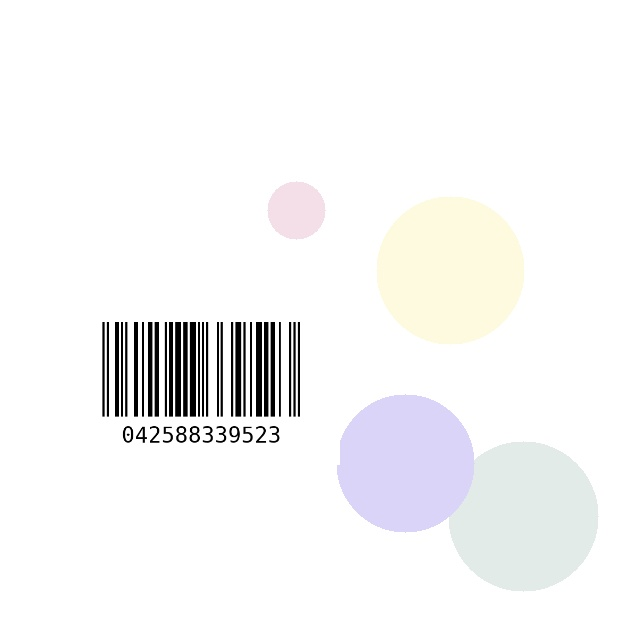barcode: (62, 316, 340, 465)
